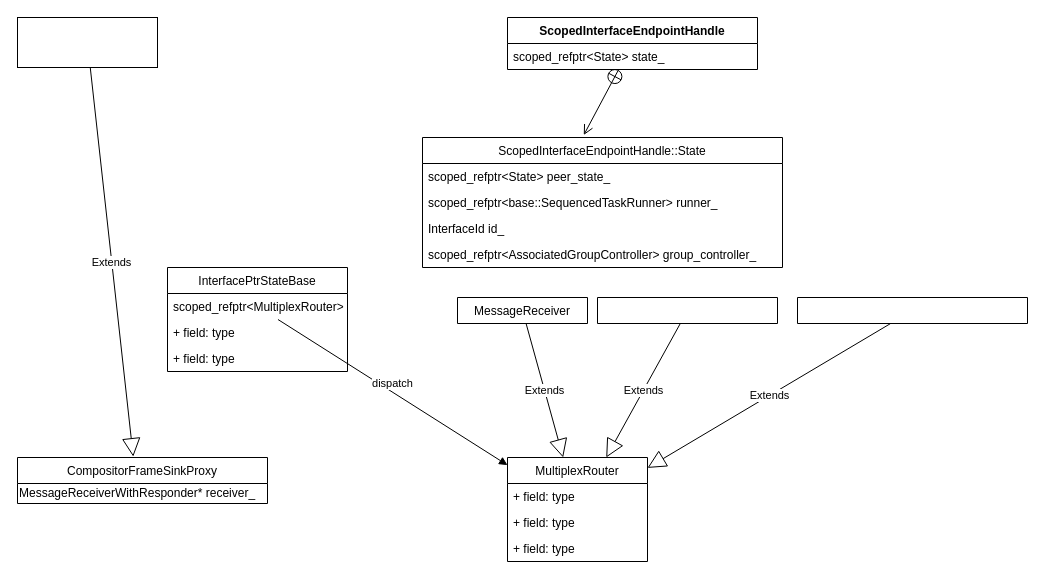
The diagram is 1045 pixels wide and 582 high, and some of its shapes have lost their labels. Here are the shapes that lost their labels. From the top down, the centre of each, then its label:
At [87,42]: "CompositorFrameSink".
At [687,310]: "AssociatedGroupController".
At [912,310]: "PipeControlMessageHandlerDelegate".
